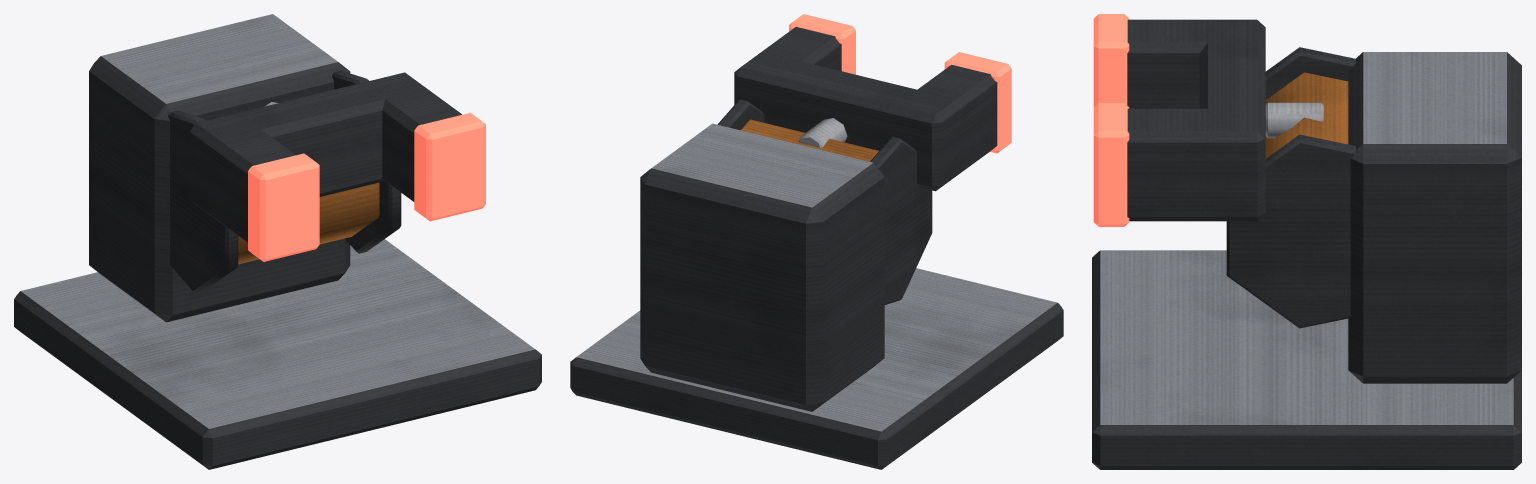
Rendered from R4X_MagneticGrapple_LOD1.glb.
The picture shows the model from 3 angles, left to right: view 1: azimuth 30°, elevation 25°; view 2: azimuth 150°, elevation 25°; view 3: azimuth 270°, elevation 25°; orthographic projection. The views are drawn at different scales.
Visible parts, largest first — view 1: R4X_MagneticGrapple_LOD1; view 2: R4X_MagneticGrapple_LOD1; view 3: R4X_MagneticGrapple_LOD1.
Boxes of the visible parts, x1,y1,x2,y2 form: R4X_MagneticGrapple_LOD1: (14,14,541,469); R4X_MagneticGrapple_LOD1: (570,14,1063,469); R4X_MagneticGrapple_LOD1: (1092,14,1521,469).
Size of the model in its own units: 0.52 by 0.414 by 0.52.
5 materials, 4 textured.
